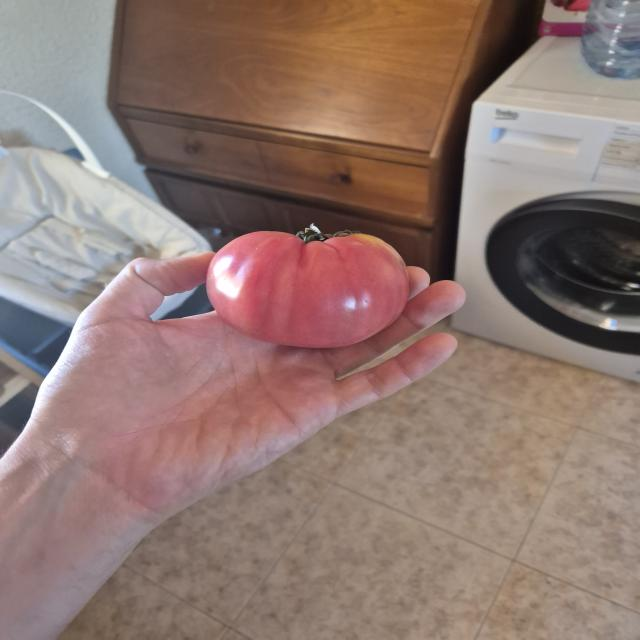tomate: (202, 223, 410, 348)
